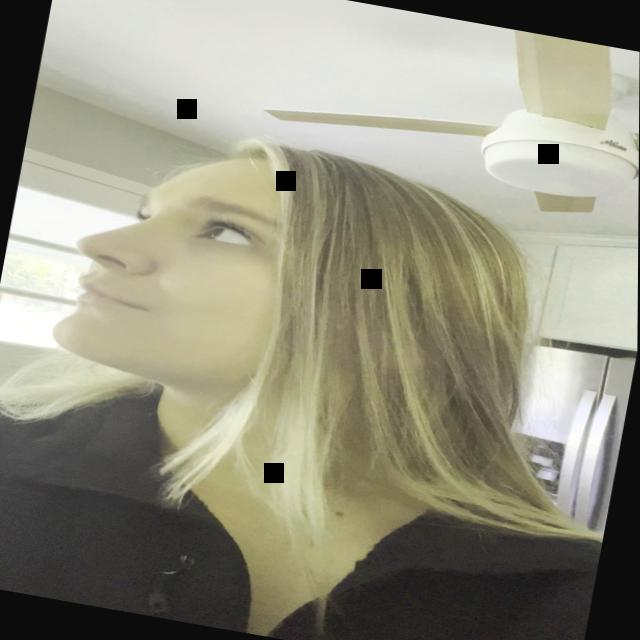NO-Mask: (44, 123, 326, 404)
